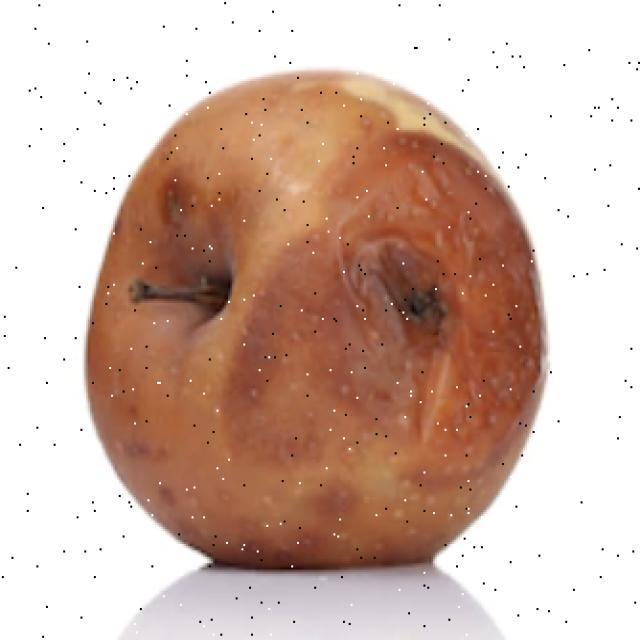Rotten: (94, 77, 548, 583)
